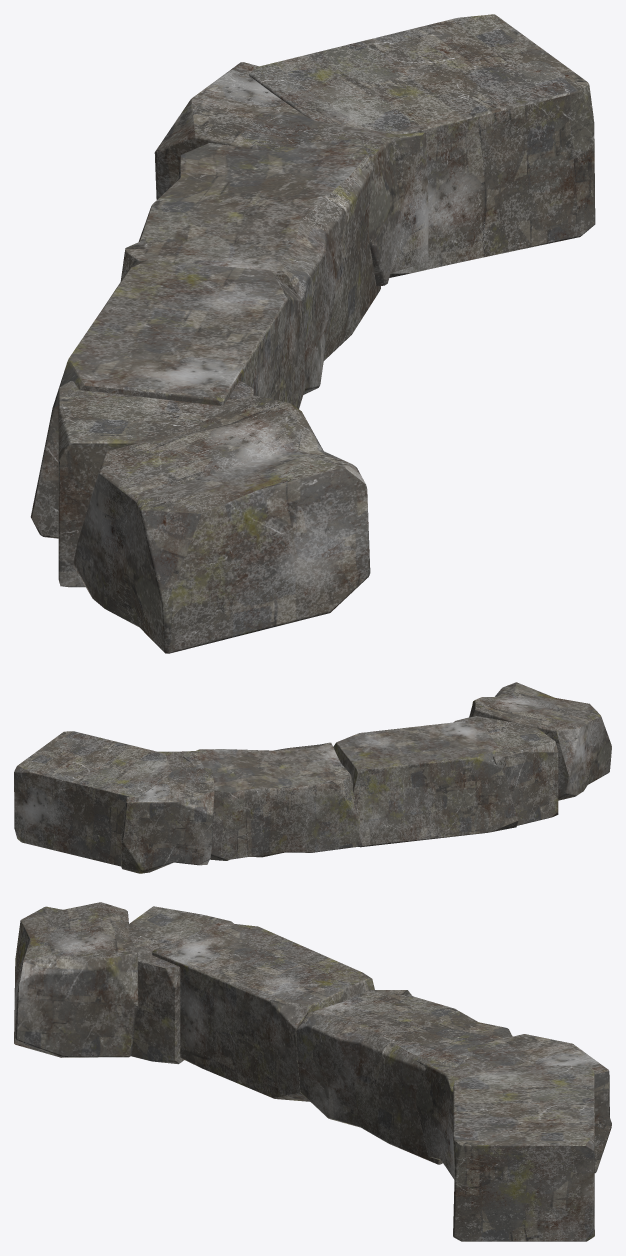
Rendered from SM_CastleTower_Floor_Seam_B_03.fbx.
The picture shows the model from 3 angles, top to bottom: view 1: azimuth 30°, elevation 25°; view 2: azimuth 150°, elevation 25°; view 3: azimuth 270°, elevation 25°; orthographic projection. The views are drawn at different scales.
Visible parts, largest first — view 1: SM_CastleTower_Floor_Seam_B_03_LOD0; view 2: SM_CastleTower_Floor_Seam_B_03_LOD0; view 3: SM_CastleTower_Floor_Seam_B_03_LOD0.
Part boxes in pixels (bbox=[...]): SM_CastleTower_Floor_Seam_B_03_LOD0: bbox=[30, 14, 595, 653]; SM_CastleTower_Floor_Seam_B_03_LOD0: bbox=[14, 682, 611, 873]; SM_CastleTower_Floor_Seam_B_03_LOD0: bbox=[14, 902, 611, 1241].
Bounding box in the file's own units: 333 × 341 × 66.71.
